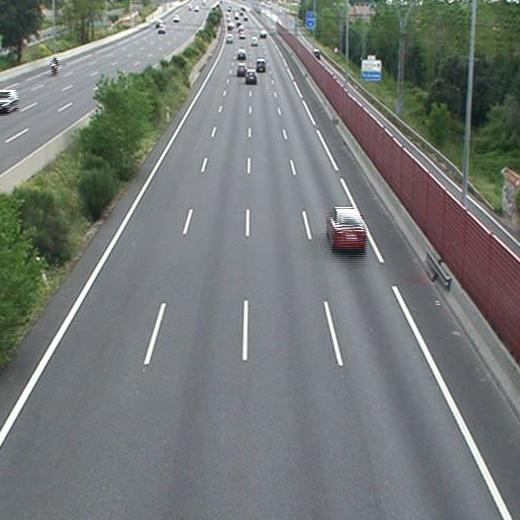car: (326, 208, 364, 246), (246, 71, 257, 83), (236, 64, 248, 74), (255, 59, 265, 70), (237, 50, 245, 58)
